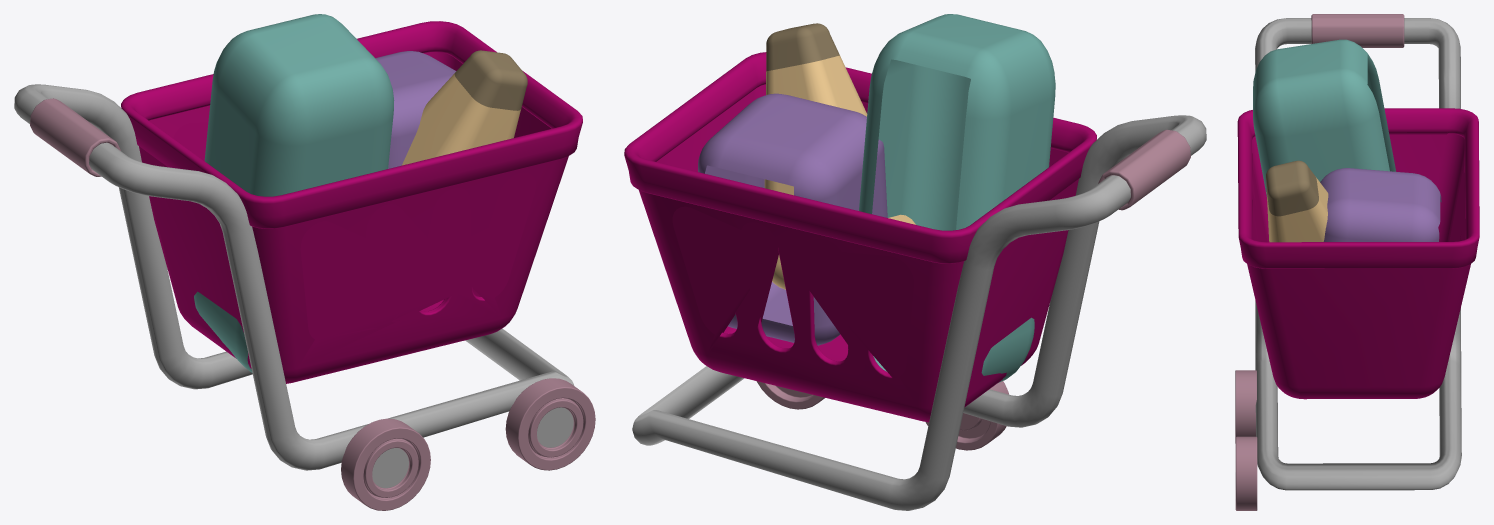
The model's file is shoping 3d smooth.fbx.
3 views of the same model, side by side, from view 1: azimuth 30°, elevation 25°; view 2: azimuth 150°, elevation 25°; view 3: azimuth 270°, elevation 25° (orthographic). The views are drawn at different scales.
Parts seen in each view (by area): view 1: pCube141; view 2: pCube141; view 3: pCube141.
Boxes of the visible parts, box(x1,y1,x2,y2) form: pCube141: box(14, 14, 595, 510); pCube141: box(624, 14, 1206, 510); pCube141: box(1235, 14, 1479, 510).
Size of the model in its own units: 138 by 125 by 74.95.
